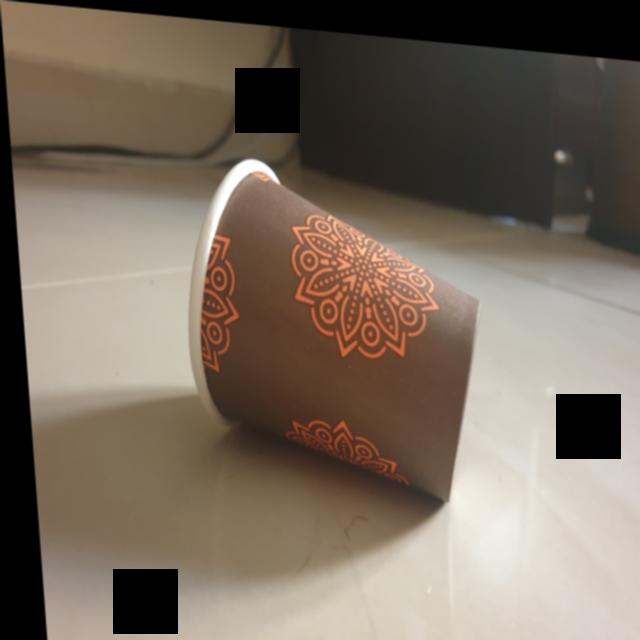cups: (171, 144, 497, 506)
